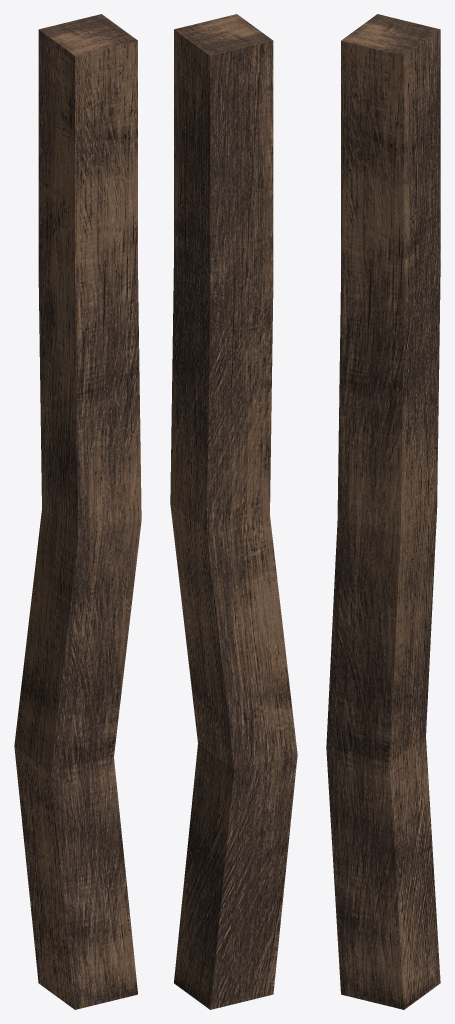
Rendered from Wood.fbx.
The picture shows the model from 3 angles, left to right: view 1: azimuth 30°, elevation 25°; view 2: azimuth 210°, elevation 25°; view 3: azimuth 330°, elevation 25°; orthographic projection.
Parts seen in each view (by area): view 1: Cube.006; view 2: Cube.006; view 3: Cube.006.
Part boxes in pixels (left/top/right/bottom): Cube.006: left=14, top=14, right=141, bottom=1009; Cube.006: left=170, top=14, right=297, bottom=1009; Cube.006: left=326, top=14, right=440, bottom=1009.
Size of the model in its own units: 17.37 by 192 by 16.29.
1 material, 1 textured.
